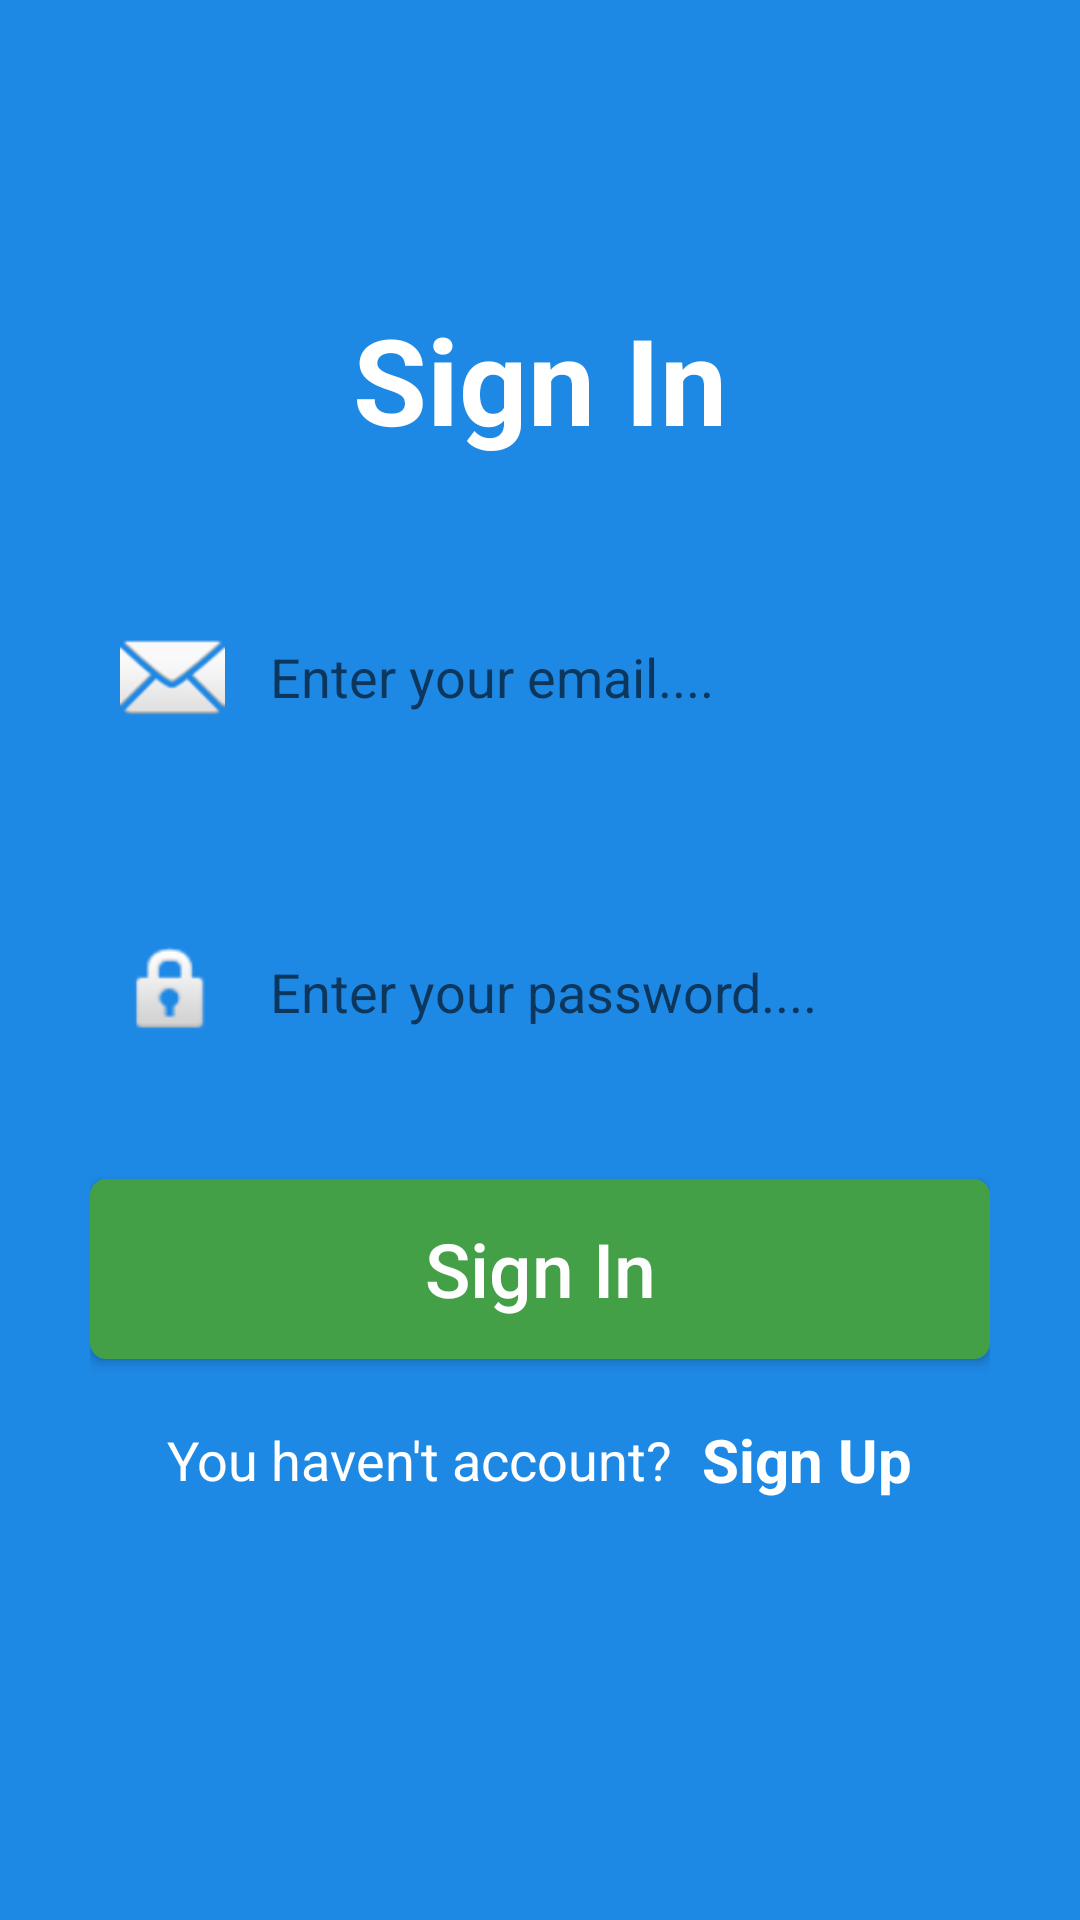

Icon click points for this 1080×1920 phone screenshot, format (x,y):
lock idle: (170,988)
